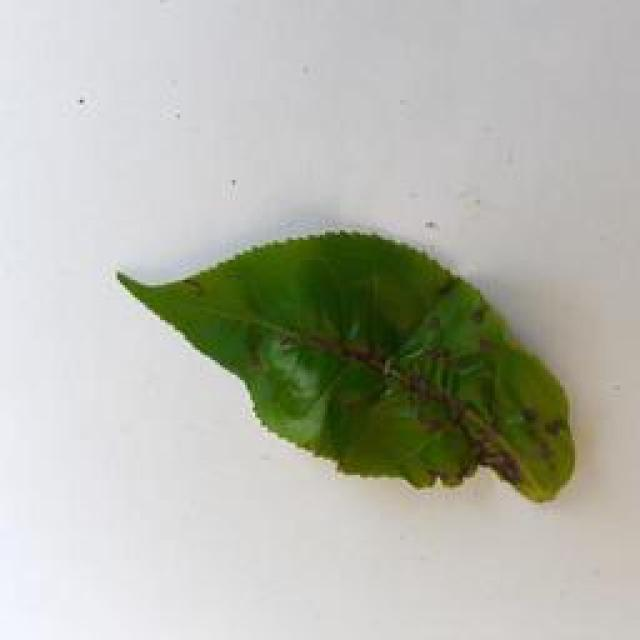Helopeltis: (116, 214, 578, 508)
